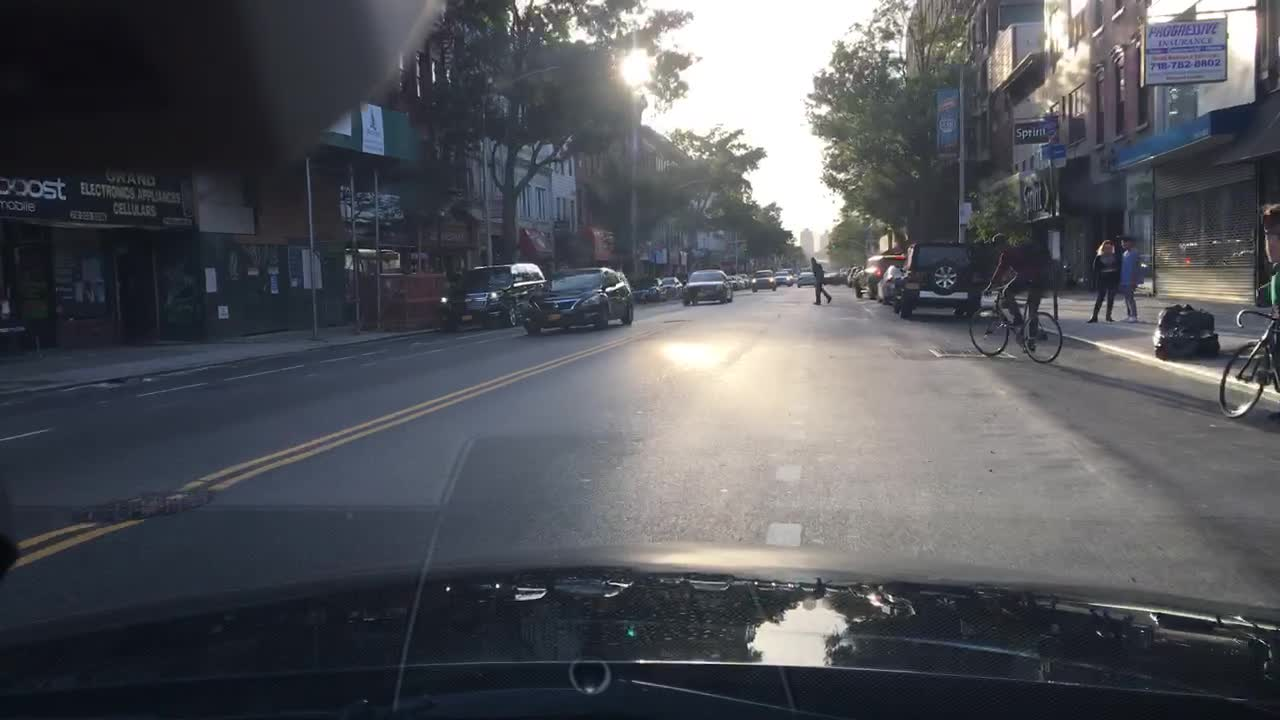bike: (965, 274, 1065, 363), (1217, 307, 1278, 422)
car: (434, 261, 548, 335), (522, 266, 635, 336), (891, 240, 983, 317), (853, 252, 906, 300), (679, 268, 733, 306), (874, 263, 907, 306), (630, 274, 660, 304), (750, 268, 778, 292), (661, 274, 684, 301), (795, 270, 819, 288), (846, 265, 862, 288), (822, 268, 841, 285), (780, 267, 796, 285), (774, 270, 790, 286), (732, 273, 748, 289), (726, 274, 739, 292), (736, 271, 751, 285), (841, 265, 853, 282), (796, 265, 817, 273)
person: (1250, 203, 1279, 372), (1082, 239, 1120, 326), (1116, 235, 1143, 322), (807, 255, 834, 306)
rider: (980, 231, 1051, 350)
traffic sign: (1049, 142, 1067, 169), (957, 199, 972, 228), (411, 249, 430, 259)
